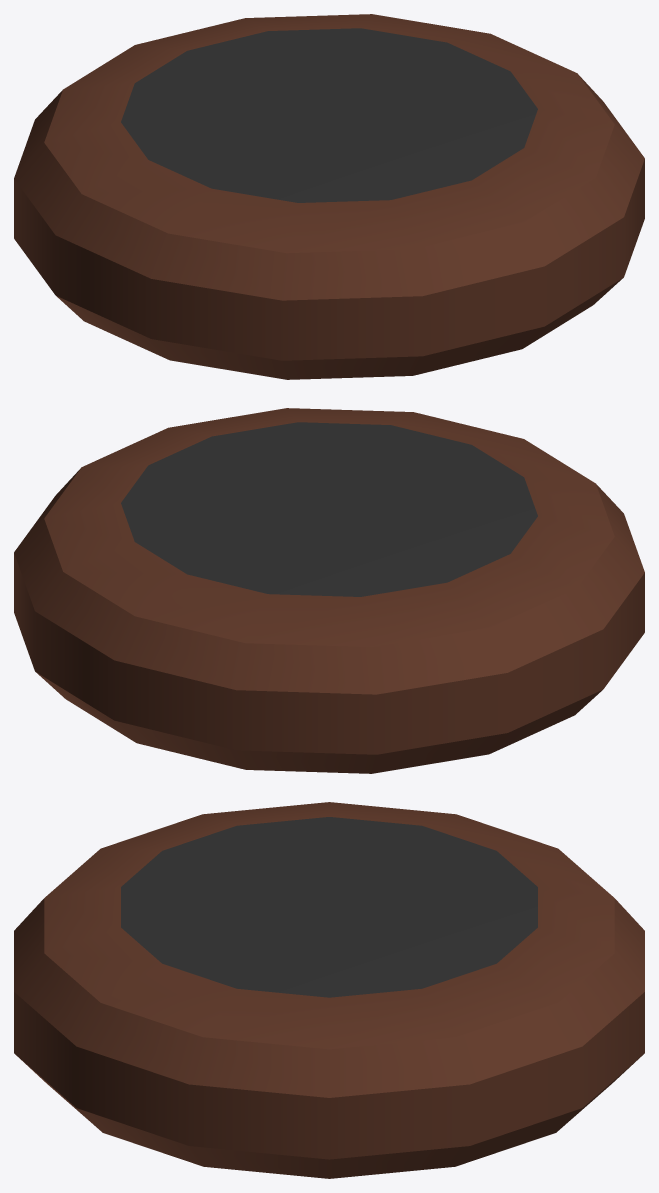
The model's file is Cheese_Wheel.fbx.
The picture shows the model from 3 angles, top to bottom: view 1: azimuth 30°, elevation 25°; view 2: azimuth 150°, elevation 25°; view 3: azimuth 270°, elevation 25°; orthographic projection. The views are drawn at different scales.
Visible parts, largest first — view 1: Cheese_Wheel; view 2: Cheese_Wheel; view 3: Cheese_Wheel.
Boxes of the visible parts, box(x1,y1,x2,y2) form: Cheese_Wheel: box(14, 14, 644, 379); Cheese_Wheel: box(14, 408, 644, 773); Cheese_Wheel: box(14, 802, 644, 1178).
Bounding box in the file's own units: 28.07 × 7.53 × 27.37.
